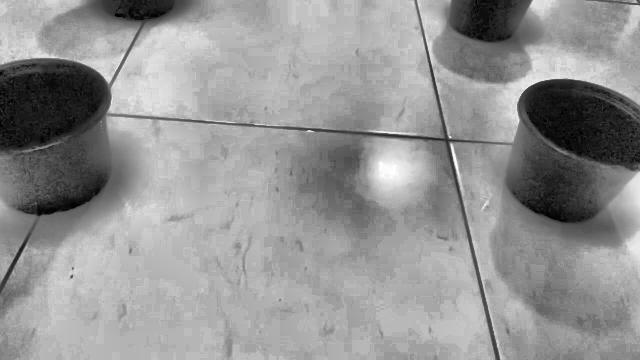pot: (506, 80, 640, 222), (0, 58, 111, 214)
